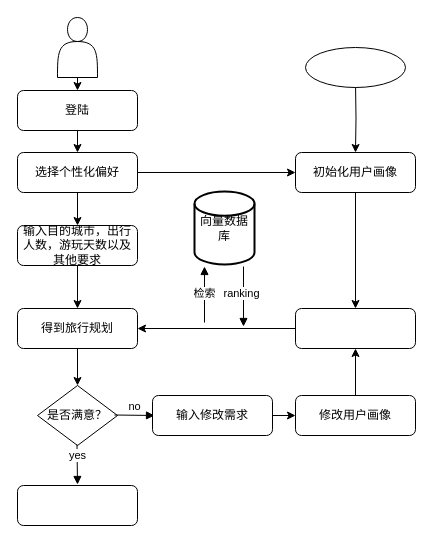
Some shapes in this 433 by 543 pixel diagram are drawn without their labels. The shapes that lost their labels are listed below. From the top down, each one's centre as x and y in pixels, then its label:
At pixel 77 47: "user".
At pixel 355 67: "app".
At pixel 355 328: "( step by step )递归生成旅游规划".
At pixel 77 505: "生成最终规划".
